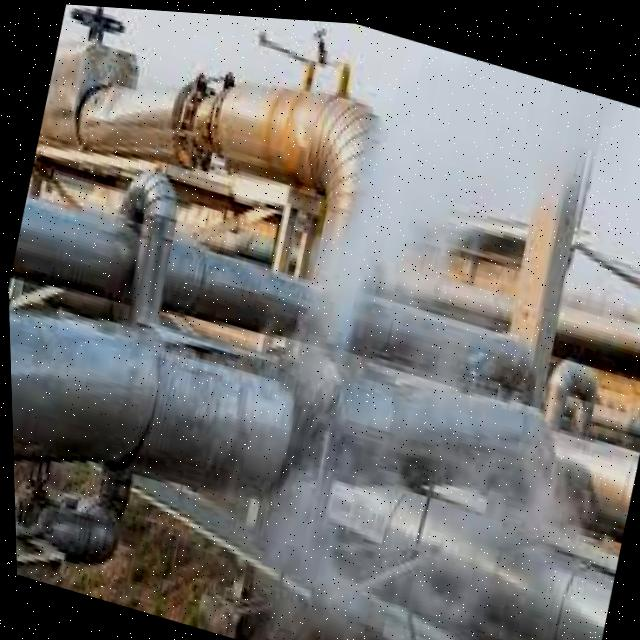corrosion: (207, 127, 464, 547)
